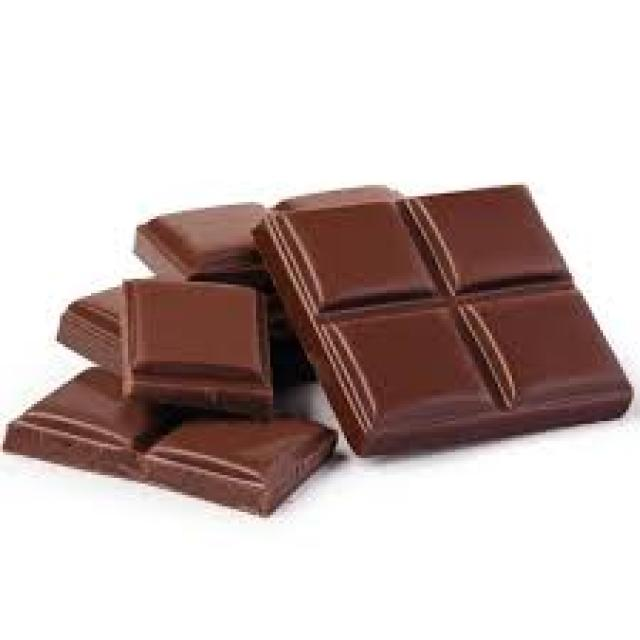Chocolate: (0, 177, 640, 520), (253, 182, 632, 455), (114, 272, 276, 420)
